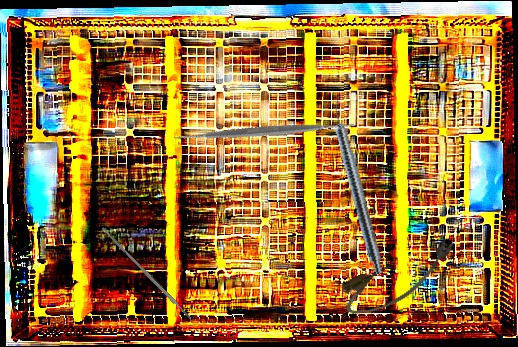Cannula: (335, 229, 467, 325)
Handpiece: (325, 95, 389, 276)
Scalpel Handle: (100, 226, 193, 321)
Spatula Surgical: (166, 33, 363, 230)
